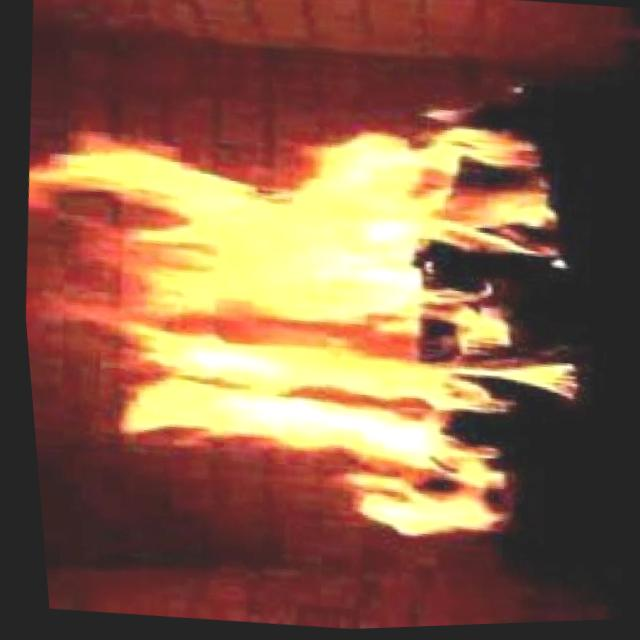helmet: (4, 47, 627, 578)
